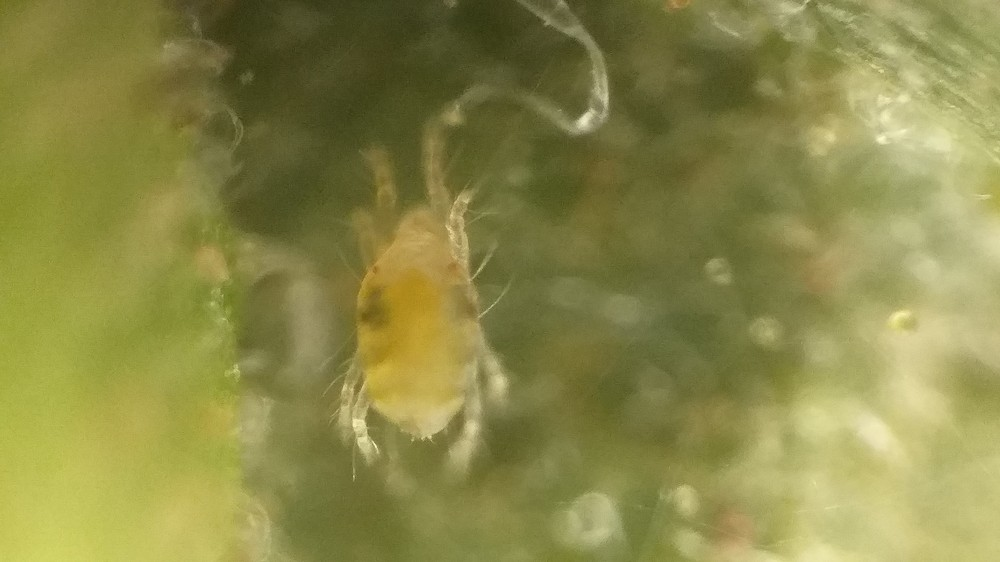Aracnido Rojo: (301, 94, 551, 493)
